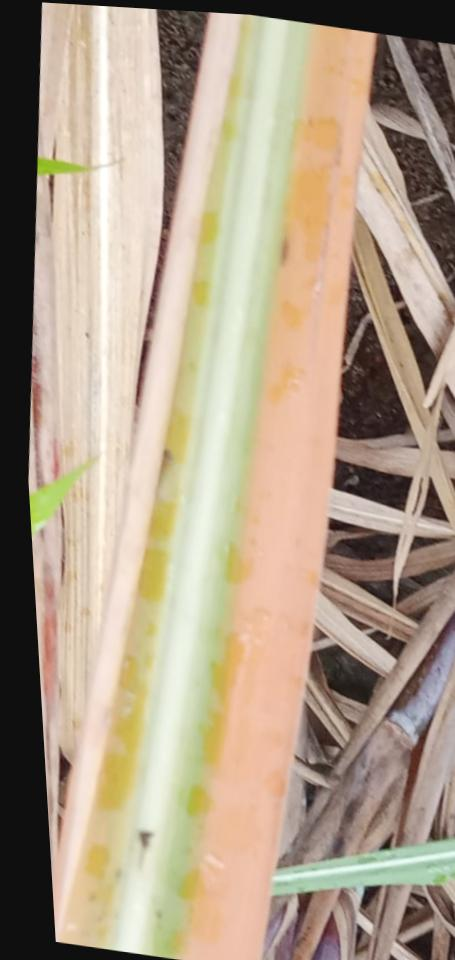Rust: (156, 448, 174, 489), (277, 234, 289, 268), (113, 865, 123, 883), (86, 893, 98, 904), (152, 909, 163, 920)
Yellow: (52, 12, 263, 949), (181, 25, 378, 960)
